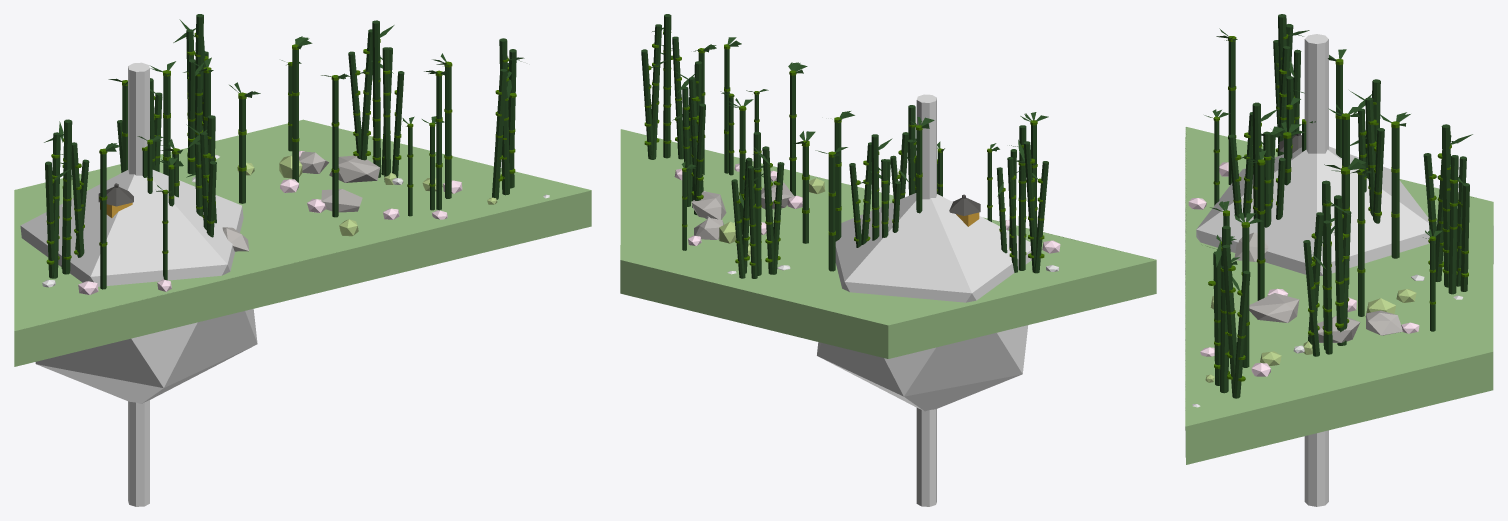
File: bamboo forest split tile.glb
The picture shows the model from 3 angles, left to right: view 1: azimuth 30°, elevation 25°; view 2: azimuth 150°, elevation 25°; view 3: azimuth 270°, elevation 25°; orthographic projection. The views are drawn at different scales.
Visible parts, largest first — view 1: Cylinder.001, Low Poly Stone, Low Poly Bamboo Stalk.002, Low Poly Bamboo Stalk.063, Low Poly Bamboo Stalk.087, Rock_3, Low Poly Bamboo Stalk.098, Low Poly Bamboo Stalk.099, BambooStalk_2_3.002, BambooStalk_2_3.001, Low Poly Bamboo Stalk.088, Low Poly Bamboo Stalk.086 (+14 smaller); view 2: Cylinder.001, Low Poly Stone, Low Poly Bamboo Stalk.002, Low Poly Bamboo Stalk.099, Low Poly Bamboo Stalk.063, Low Poly Bamboo Stalk.093, Low Poly Bamboo Stalk.094, Low Poly Bamboo Stalk.100, BambooStalk_0_0, Low Poly Bamboo Stalk.064, Low Poly Bamboo Stalk.098, BambooStalk_0_2 (+17 smaller); view 3: Cylinder.001, Low Poly Stone, Low Poly Bamboo Stalk.002, Low Poly Bamboo Stalk.093, Rock_5, BambooStalk_0_0, Low Poly Bamboo Stalk.088, Low Poly Bamboo Stalk.092, Low Poly Bamboo Stalk.100, Low Poly Bamboo Stalk.099, BambooStalk_2_3.002, Low Poly Bamboo Stalk.101 (+33 smaller).
Part boxes in pixels (<box>): Cylinder.001: <box>14,119,591,366</box>; Low Poly Stone: <box>20,170,257,403</box>; Low Poly Bamboo Stalk.002: <box>128,62,149,506</box>; Low Poly Bamboo Stalk.063: <box>62,119,72,274</box>; Low Poly Bamboo Stalk.087: <box>372,20,380,177</box>; Rock_3: <box>329,155,380,182</box>; Low Poly Bamboo Stalk.098: <box>492,69,506,199</box>; Low Poly Bamboo Stalk.099: <box>499,38,509,195</box>; BambooStalk_2_3.002: <box>332,80,338,217</box>; BambooStalk_2_3.001: <box>100,154,106,289</box>; Low Poly Bamboo Stalk.088: <box>360,29,372,160</box>; Low Poly Bamboo Stalk.086: <box>382,47,390,181</box>; Cylinder.001: <box>620,129,1156,358</box>; Low Poly Stone: <box>817,193,1031,411</box>; Low Poly Bamboo Stalk.002: <box>916,94,936,506</box>; Low Poly Bamboo Stalk.099: <box>663,14,671,158</box>; Low Poly Bamboo Stalk.063: <box>1018,125,1026,270</box>; Low Poly Bamboo Stalk.093: <box>753,131,761,275</box>; Low Poly Bamboo Stalk.094: <box>762,146,774,274</box>; Low Poly Bamboo Stalk.100: <box>650,24,661,159</box>; BambooStalk_0_0: <box>828,157,835,271</box>; Low Poly Bamboo Stalk.064: <box>1023,141,1036,271</box>; Low Poly Bamboo Stalk.098: <box>672,36,683,159</box>; BambooStalk_0_2: <box>834,122,841,241</box>; Cylinder.001: <box>1185,127,1493,464</box>; Low Poly Stone: <box>1196,146,1429,275</box>; Low Poly Bamboo Stalk.002: <box>1304,34,1328,506</box>; Low Poly Bamboo Stalk.093: <box>1441,124,1450,287</box>; Rock_5: <box>1249,293,1299,322</box>; BambooStalk_0_0: <box>1391,127,1399,258</box>; Low Poly Bamboo Stalk.088: <box>1334,195,1344,345</box>; Low Poly Bamboo Stalk.092: <box>1448,155,1458,294</box>; Low Poly Bamboo Stalk.100: <box>1222,244,1236,396</box>; Low Poly Bamboo Stalk.099: <box>1220,225,1230,393</box>; BambooStalk_2_3.002: <box>1257,165,1264,300</box>; Low Poly Bamboo Stalk.101: <box>1232,270,1250,398</box>.
Size of the model in its own units: 5 by 3.6 by 2.17.
